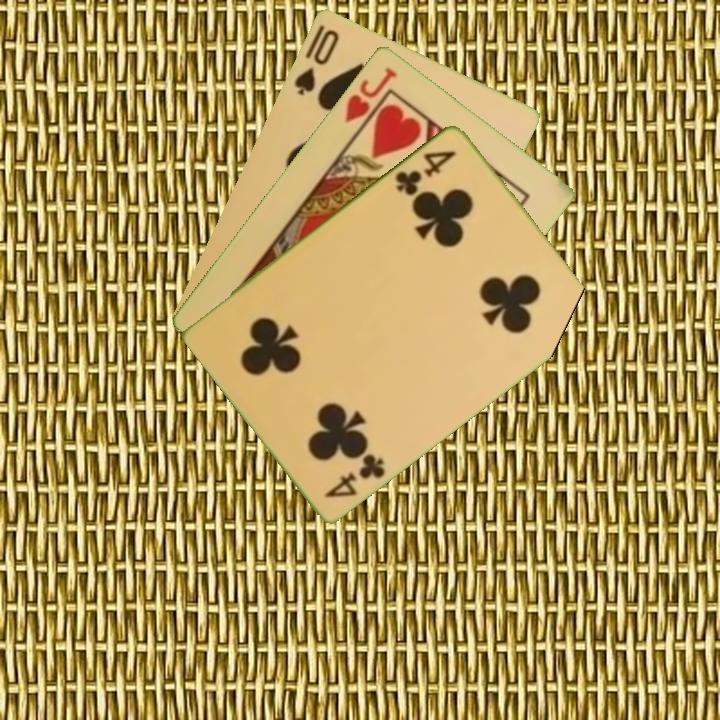10s: (290, 25, 342, 98)
4c: (391, 146, 459, 199), (321, 449, 388, 501)
Jh: (341, 63, 400, 126)
